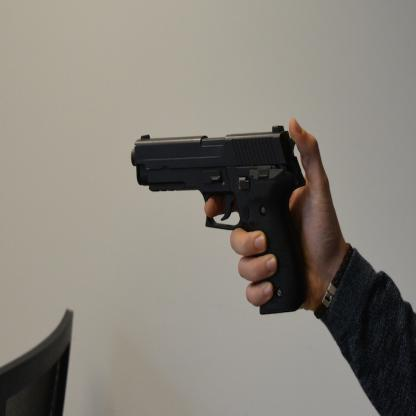gun: (130, 123, 309, 316)
